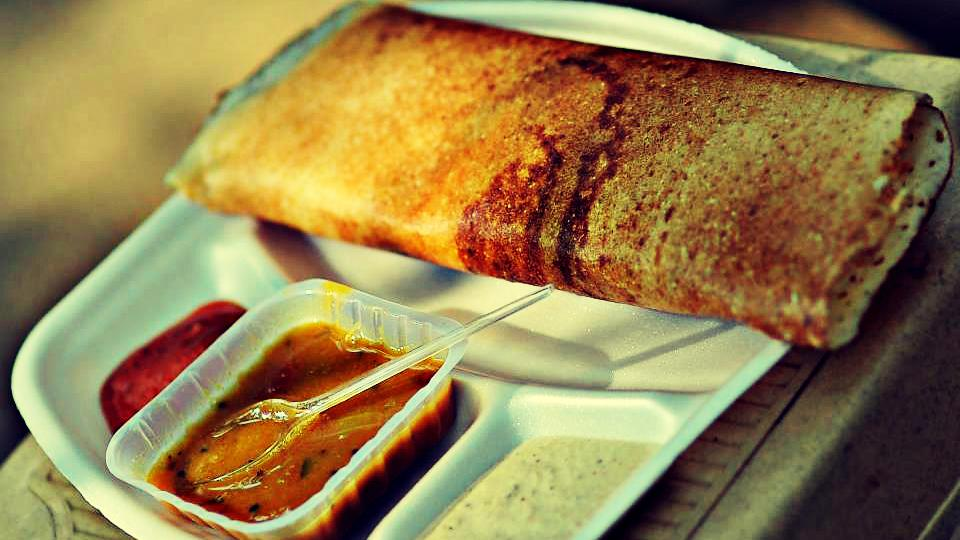dosa: (162, 3, 960, 347)
